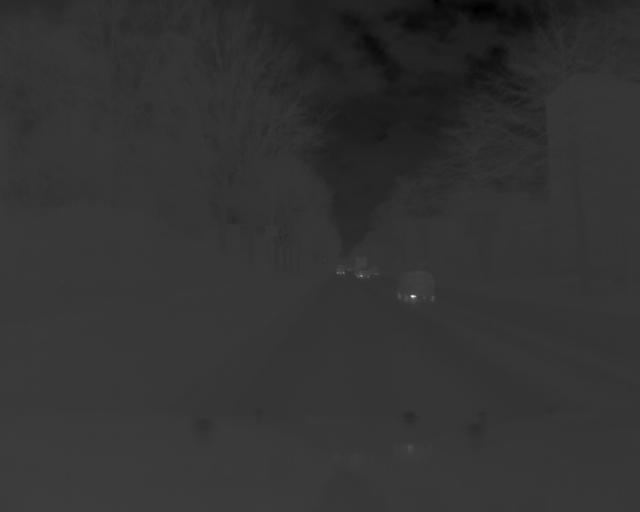car: (393, 270, 441, 306), (334, 263, 349, 279)
